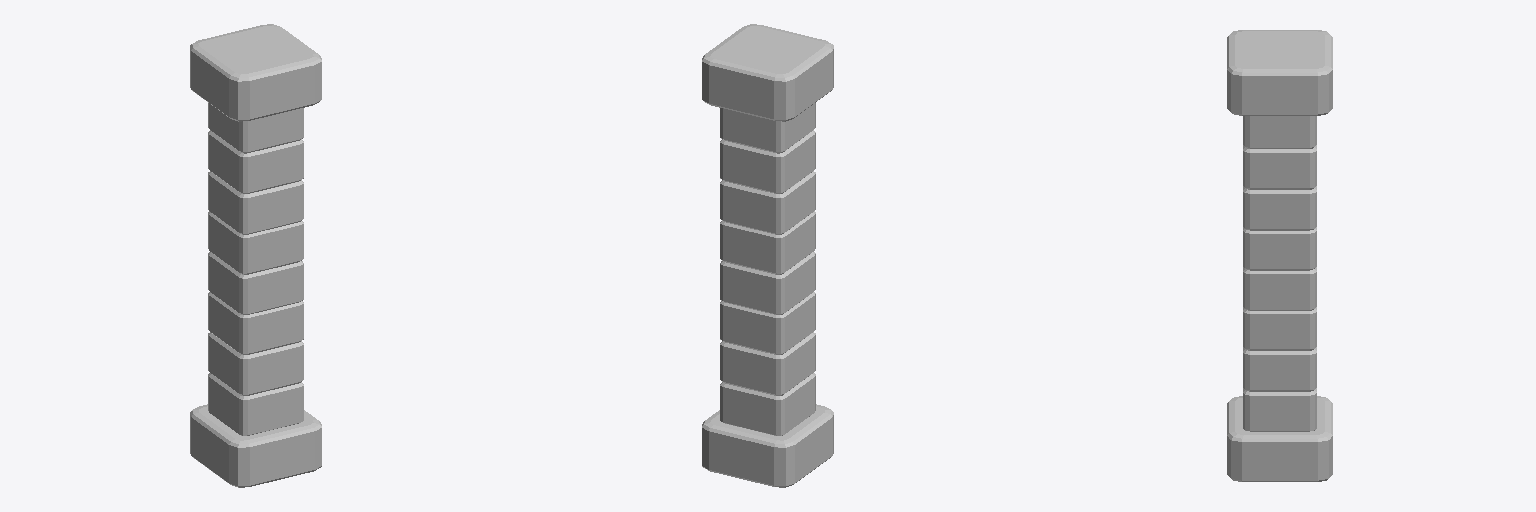
File: modular_pillar.obj
The picture shows the model from 3 angles: view 1: azimuth 30°, elevation 25°; view 2: azimuth 150°, elevation 25°; view 3: azimuth 270°, elevation 25°; orthographic projection.
Visible parts, largest first — view 1: modular_pillar_Cube.028; view 2: modular_pillar_Cube.028; view 3: modular_pillar_Cube.028.
Boxes of the visible parts, x1=… form: modular_pillar_Cube.028: x1=190, y1=24, x2=321, y2=487; modular_pillar_Cube.028: x1=702, y1=24, x2=833, y2=487; modular_pillar_Cube.028: x1=1227, y1=30, x2=1332, y2=481.
Size of the model in its own units: 2 by 8.57 by 2.